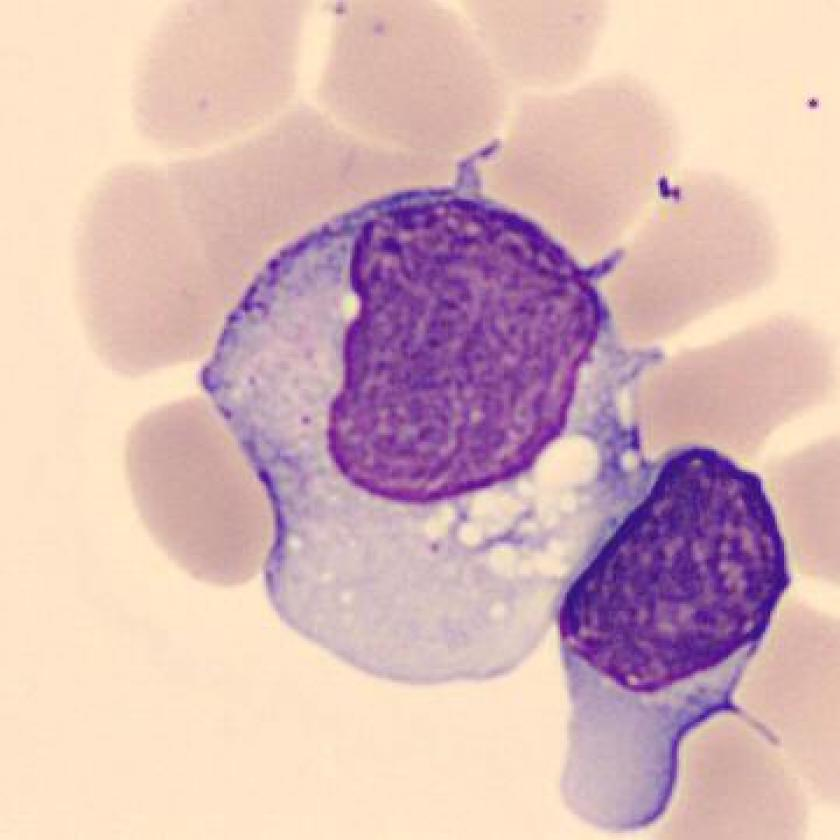monocyte: (183, 156, 682, 695)
